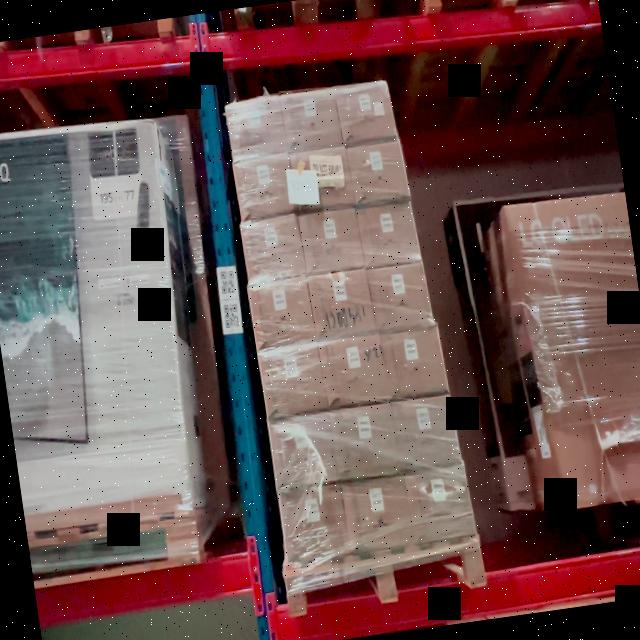box: (280, 489, 349, 562), (344, 478, 412, 551), (269, 416, 338, 486), (320, 337, 388, 407), (407, 468, 475, 537), (394, 398, 460, 468), (247, 278, 315, 345), (332, 405, 398, 474), (261, 348, 326, 417), (240, 214, 305, 281), (309, 274, 376, 339), (383, 331, 448, 398), (302, 207, 362, 277), (358, 202, 420, 267), (372, 264, 432, 328), (233, 156, 295, 217), (290, 148, 352, 208), (282, 88, 341, 150), (351, 143, 408, 200), (338, 85, 397, 140), (226, 102, 286, 154)
